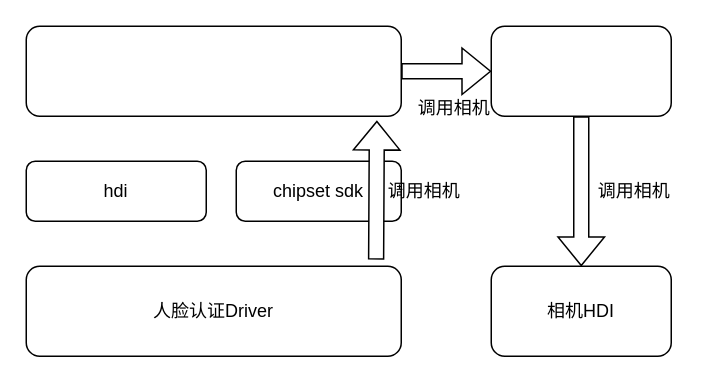
Some shapes in this 713 by 383 pixel diagram are drawn without their labels. Here are the shapes that lost their labels. From the top down, the box of each, then its label:
(25, 25, 401, 116): 人脸认证SA
(490, 25, 671, 116): 相机FWK
